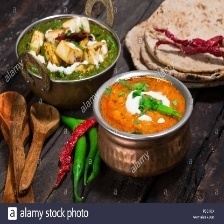sabzi: (15, 14, 120, 81)
